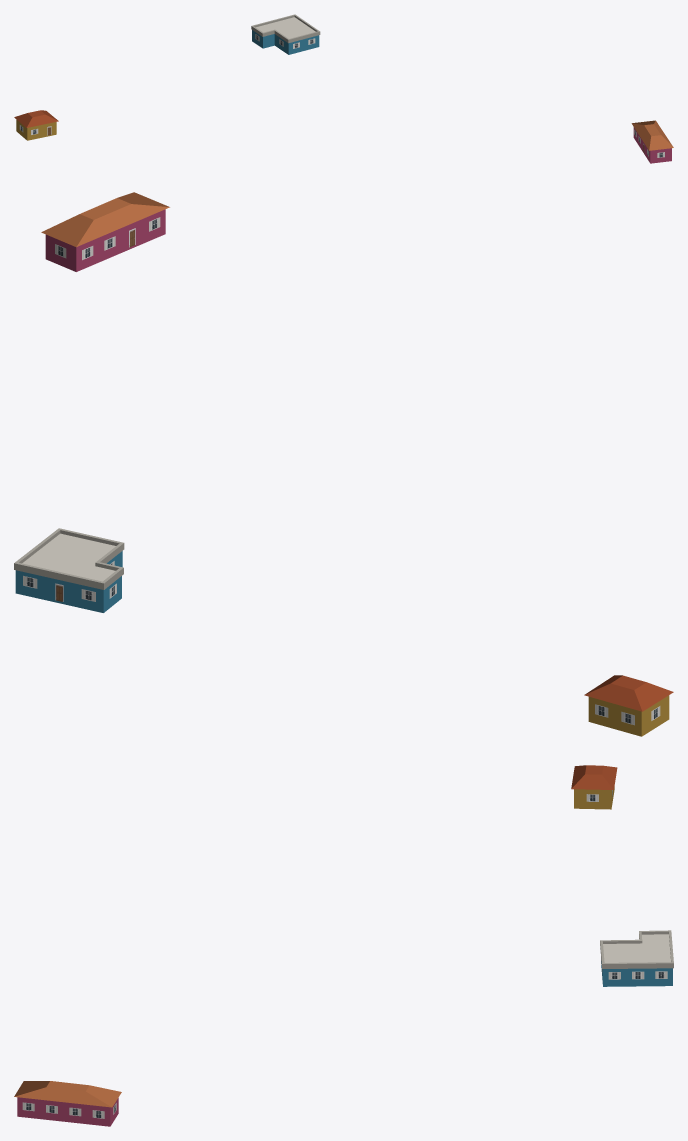
Rendered from msb_sannicolas_14_23.glb.
3 views of the same model, one above another, from view 1: azimuth 30°, elevation 25°; view 2: azimuth 150°, elevation 25°; view 3: azimuth 270°, elevation 25° (orthographic). The views are drawn at different scales.
Parts seen in each view (by area): view 1: msb_sannicolas_14_23_lod0; view 2: msb_sannicolas_14_23_lod0; view 3: msb_sannicolas_14_23_lod0.
Boxes of the visible parts, x1,y1,x2,y2 form: msb_sannicolas_14_23_lod0: [14, 14, 673, 163]; msb_sannicolas_14_23_lod0: [14, 192, 673, 736]; msb_sannicolas_14_23_lod0: [14, 765, 673, 1126].
Size of what is drawn, in the model's own units: 127 by 7.58 by 102.
Materials: 3 (1 with a texture image).
